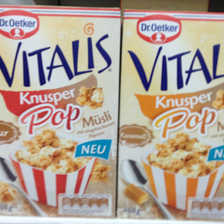cereal: (1, 7, 121, 216), (118, 7, 224, 217)
